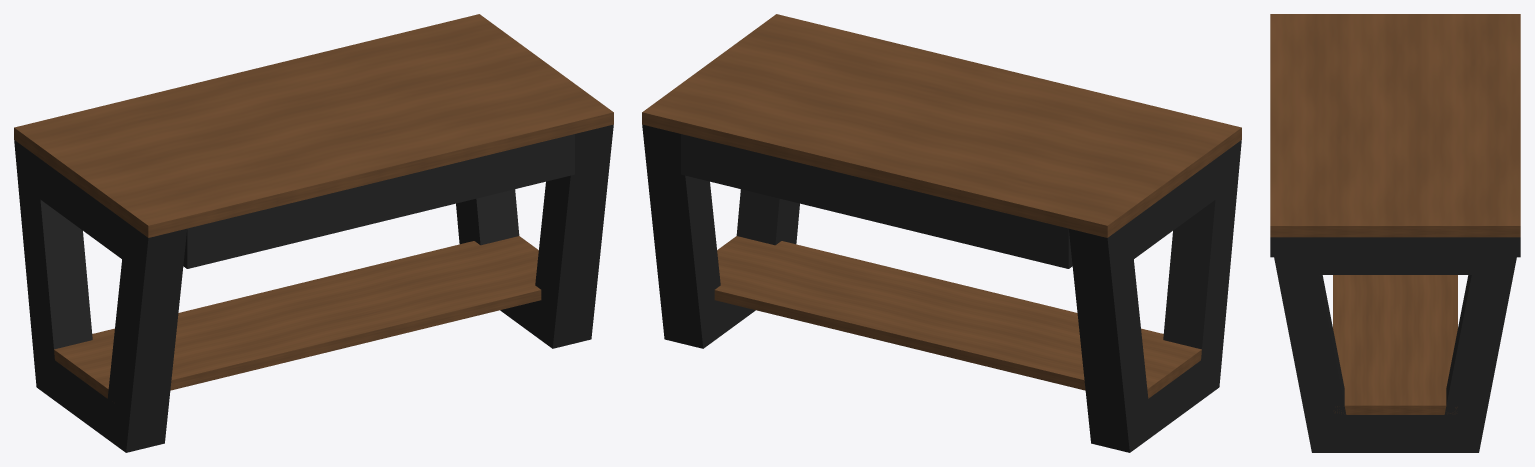
The model's file is mesa-living-nord-estante-nogal-negro-10cm.glb.
3 views of the same model, side by side, from view 1: azimuth 30°, elevation 25°; view 2: azimuth 150°, elevation 25°; view 3: azimuth 270°, elevation 25° (orthographic). The views are drawn at different scales.
Parts seen in each view (by area): view 1: Tapa de madera maciza 120 x 60 x 3 cm, Patas inclinadas con cortes a inglete, Estante inferior de madera de 120 cm (proporción aproximada), Larguero longitudinal superior de hierro 10 x 10 mm, Travesaño superior del trapecio, perfil 10 cm, Travesaño inferior del trapecio, perfil 10 cm; view 2: Tapa de madera maciza 120 x 60 x 3 cm, Patas inclinadas con cortes a inglete, Estante inferior de madera de 120 cm (proporción aproximada), Larguero longitudinal superior de hierro 10 x 10 mm, Travesaño superior del trapecio, perfil 10 cm, Travesaño inferior del trapecio, perfil 10 cm (×2); view 3: Tapa de madera maciza 120 x 60 x 3 cm, Patas inclinadas con cortes a inglete, Estante inferior de madera de 120 cm (proporción aproximada), Travesaño superior del trapecio, perfil 10 cm, Travesaño inferior del trapecio, perfil 10 cm.
Boxes of the visible parts, x1=… form: Tapa de madera maciza 120 x 60 x 3 cm: x1=14, y1=14, x2=613, y2=237; Patas inclinadas con cortes a inglete: x1=14, y1=124, x2=613, y2=452; Estante inferior de madera de 120 cm (proporción aproximada): x1=54, y1=236, x2=541, y2=398; Larguero longitudinal superior de hierro 10 x 10 mm: x1=183, y1=134, x2=574, y2=268; Travesaño superior del trapecio, perfil 10 cm: x1=36, y1=156, x2=137, y2=269; Travesaño inferior del trapecio, perfil 10 cm: x1=55, y1=360, x2=114, y2=438; Tapa de madera maciza 120 x 60 x 3 cm: x1=642, y1=14, x2=1241, y2=237; Patas inclinadas con cortes a inglete: x1=642, y1=124, x2=1241, y2=452; Estante inferior de madera de 120 cm (proporción aproximada): x1=714, y1=236, x2=1201, y2=398; Larguero longitudinal superior de hierro 10 x 10 mm: x1=681, y1=134, x2=1072, y2=268; Travesaño superior del trapecio, perfil 10 cm: x1=1118, y1=149, x2=1230, y2=268; Travesaño inferior del trapecio, perfil 10 cm (×2): x1=715, y1=300, x2=1200, y2=436; Tapa de madera maciza 120 x 60 x 3 cm: x1=1270, y1=14, x2=1520, y2=237; Patas inclinadas con cortes a inglete: x1=1270, y1=237, x2=1520, y2=452; Estante inferior de madera de 120 cm (proporción aproximada): x1=1333, y1=275, x2=1457, y2=414; Travesaño superior del trapecio, perfil 10 cm: x1=1291, y1=237, x2=1499, y2=274; Travesaño inferior del trapecio, perfil 10 cm: x1=1333, y1=415, x2=1457, y2=452.
Size of the model in its own units: 1.2 by 0.6 by 0.6.
2 materials, 1 textured.
